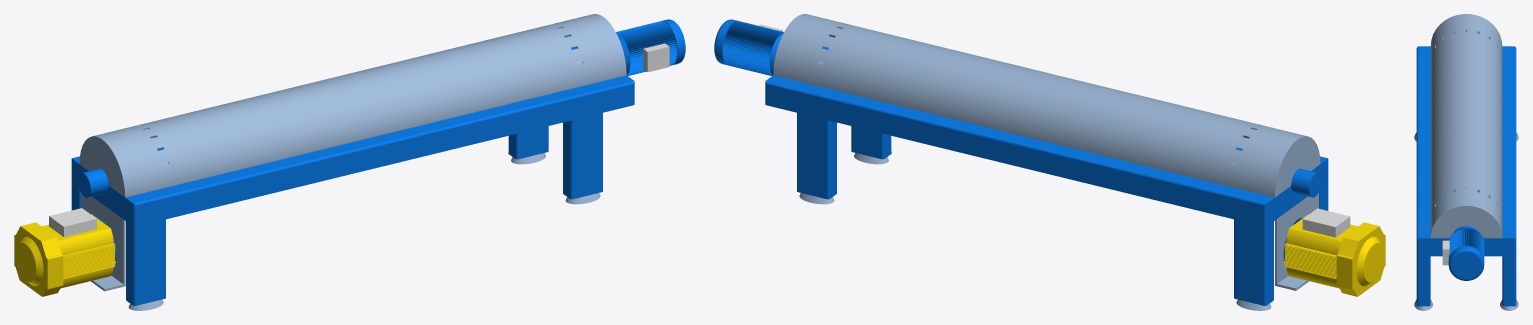
File: horizontal-centrifuge.gltf
3 views of the same model, side by side, from view 1: azimuth 30°, elevation 25°; view 2: azimuth 150°, elevation 25°; view 3: azimuth 270°, elevation 25° (orthographic). The views are drawn at different scales.
Visible parts, largest first — view 1: 连接的实心几何图形 [221878], 连接的实心几何图形 [221820], 拉伸 [221746], 拉伸 [222861], 拉伸 [221903], 连接的实心几何图形 [222932], 拉伸 [222936], 拉伸 [223118], 融合 [222893], 连接的实心几何图形 [222931], 拉伸 [223127], 拉伸 [222329] (+1 smaller); view 2: 连接的实心几何图形 [221878], 连接的实心几何图形 [221820], 拉伸 [221746], 拉伸 [221903], 拉伸 [222861], 连接的实心几何图形 [222932], 拉伸 [222936], 拉伸 [223118], 融合 [222893], 连接的实心几何图形 [222931], 拉伸 [223127], 拉伸 [223109]; view 3: 连接的实心几何图形 [221878], 连接的实心几何图形 [221820], 拉伸 [221746], 旋转 [222049], 拉伸 [221903], 拉伸 [222329], 融合 [221835], 融合 [221843].
Part boxes in pixels (left/top/right/bottom): 连接的实心几何图形 [221878]: left=79, top=14, right=626, bottom=197; 连接的实心几何图形 [221820]: left=71, top=47, right=634, bottom=226; 拉伸 [221746]: left=71, top=113, right=602, bottom=305; 拉伸 [222861]: left=14, top=222, right=63, bottom=296; 拉伸 [221903]: left=616, top=21, right=677, bottom=75; 连接的实心几何图形 [222932]: left=81, top=194, right=125, bottom=291; 拉伸 [222936]: left=63, top=243, right=115, bottom=279; 拉伸 [223118]: left=42, top=214, right=113, bottom=255; 融合 [222893]: left=16, top=236, right=43, bottom=286; 连接的实心几何图形 [222931]: left=49, top=208, right=96, bottom=237; 拉伸 [223127]: left=78, top=168, right=108, bottom=197; 拉伸 [222329]: left=643, top=43, right=669, bottom=72; 连接的实心几何图形 [221878]: left=773, top=14, right=1320, bottom=197; 连接的实心几何图形 [221820]: left=765, top=47, right=1328, bottom=226; 拉伸 [221746]: left=797, top=113, right=1328, bottom=305; 拉伸 [221903]: left=722, top=21, right=783, bottom=75; 拉伸 [222861]: left=1336, top=222, right=1385, bottom=296; 连接的实心几何图形 [222932]: left=1275, top=193, right=1318, bottom=290; 拉伸 [222936]: left=1284, top=243, right=1336, bottom=279; 拉伸 [223118]: left=1286, top=214, right=1357, bottom=255; 融合 [222893]: left=1356, top=236, right=1383, bottom=286; 连接的实心几何图形 [222931]: left=1302, top=208, right=1350, bottom=237; 拉伸 [223127]: left=1291, top=168, right=1321, bottom=197; 拉伸 [223109]: left=1286, top=267, right=1339, bottom=288; 连接的实心几何图形 [221878]: left=1430, top=14, right=1502, bottom=238; 连接的实心几何图形 [221820]: left=1416, top=46, right=1516, bottom=256; 拉伸 [221746]: left=1416, top=256, right=1516, bottom=306; 旋转 [222049]: left=1448, top=246, right=1484, bottom=280; 拉伸 [221903]: left=1448, top=228, right=1484, bottom=259; 拉伸 [222329]: left=1442, top=240, right=1449, bottom=265; 融合 [221835]: left=1500, top=299, right=1518, bottom=310; 融合 [221843]: left=1414, top=299, right=1432, bottom=310.
Size of the model in its own units: 5.91 by 1.3 by 1.05.
